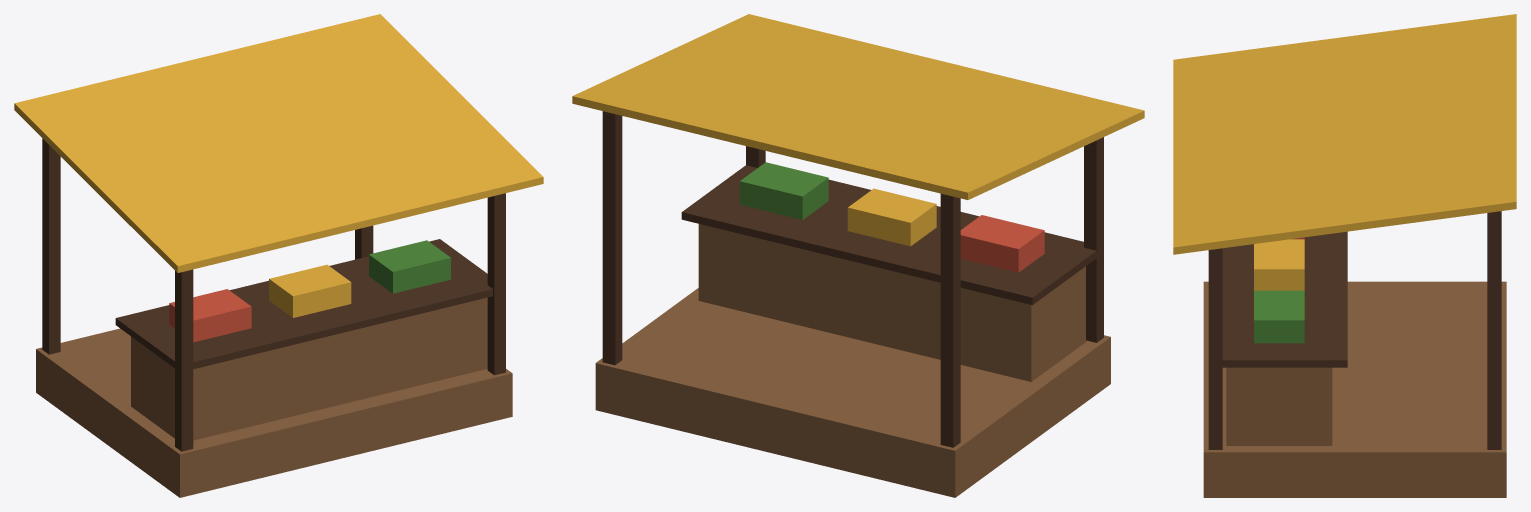
Rendered from stall_c.glb.
3 renders of one model, left to right at view 1: azimuth 30°, elevation 25°; view 2: azimuth 150°, elevation 25°; view 3: azimuth 270°, elevation 25°, orthographic. The views are drawn at different scales.
Visible parts, largest first — view 1: stall_c-col; view 2: stall_c-col; view 3: stall_c-col.
Part boxes in pixels (x1,y1,x2,y2): stall_c-col: [14, 14, 543, 497]; stall_c-col: [572, 14, 1144, 497]; stall_c-col: [1173, 14, 1516, 497].
Size of the model in its own units: 4.4 by 3.33 by 3.4.
